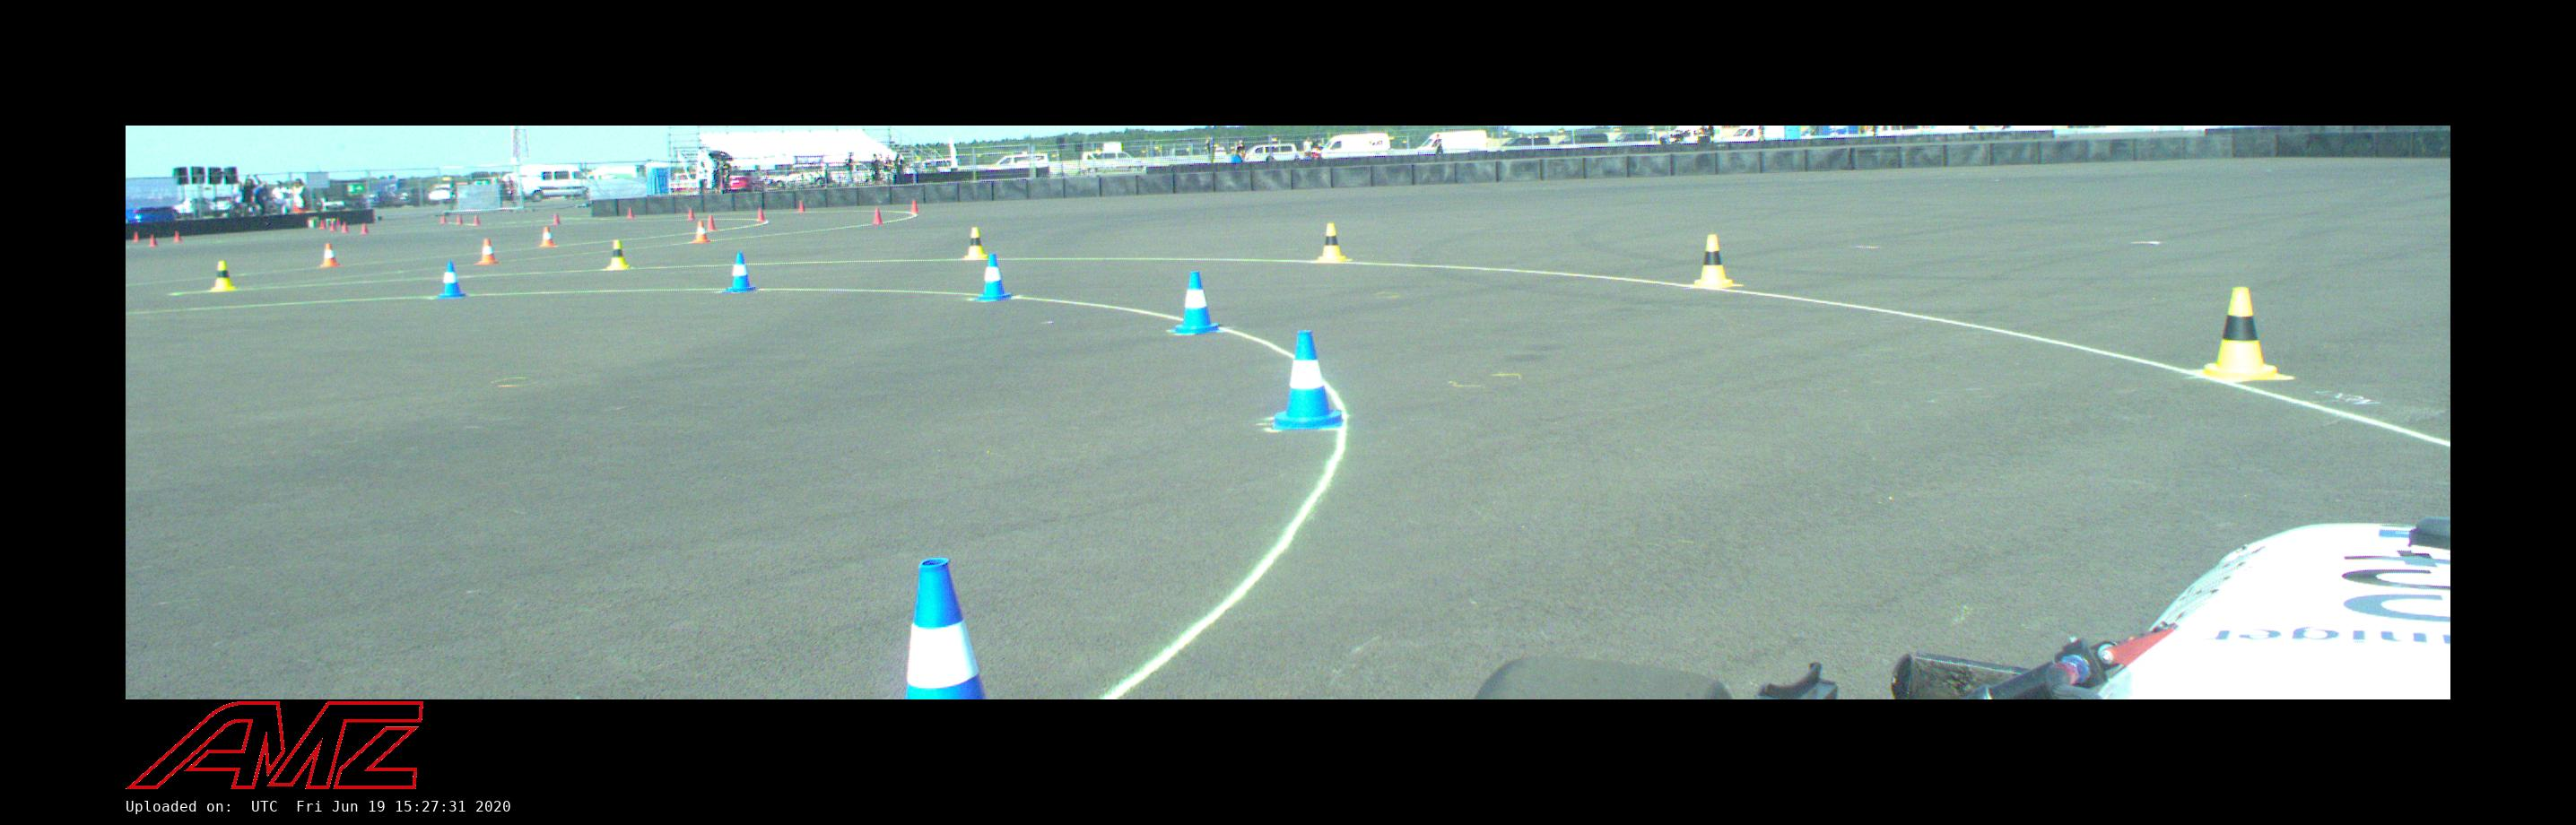blue_cone: (905, 559, 988, 699), (1267, 331, 1345, 429), (1170, 271, 1221, 334), (972, 254, 1012, 301), (722, 253, 761, 292), (436, 262, 466, 298)
orange_cone: (475, 239, 500, 265), (319, 243, 339, 268), (693, 221, 709, 242), (538, 228, 554, 247)
unknown_cone: (874, 208, 883, 223), (686, 208, 697, 221), (910, 200, 920, 213), (708, 215, 716, 230), (757, 209, 766, 221), (174, 230, 182, 242), (150, 234, 158, 246), (553, 213, 561, 225), (361, 223, 370, 233), (473, 214, 481, 225), (799, 201, 805, 213), (627, 208, 634, 218), (329, 221, 336, 231), (134, 231, 140, 241), (319, 220, 326, 229), (457, 216, 464, 224), (442, 214, 448, 223), (344, 222, 348, 231)
yellow_cone: (2197, 287, 2282, 378), (1689, 235, 1733, 288), (1317, 224, 1345, 262), (606, 240, 631, 269), (210, 262, 233, 291), (963, 227, 983, 257)
